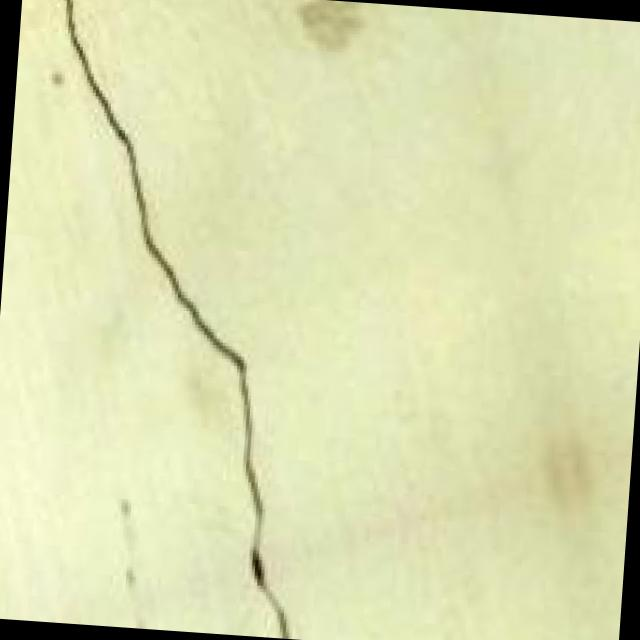crack: (11, 0, 351, 630)
